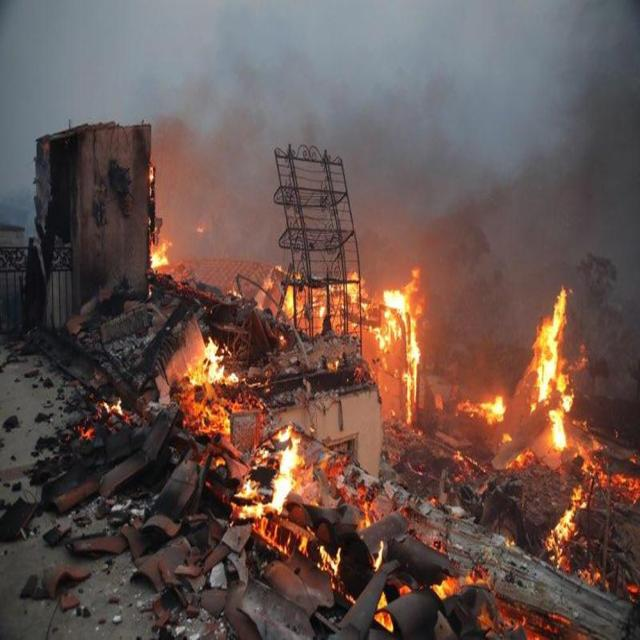Fire: (167, 322, 326, 540), (291, 227, 444, 446), (477, 273, 586, 449), (136, 222, 182, 285)
